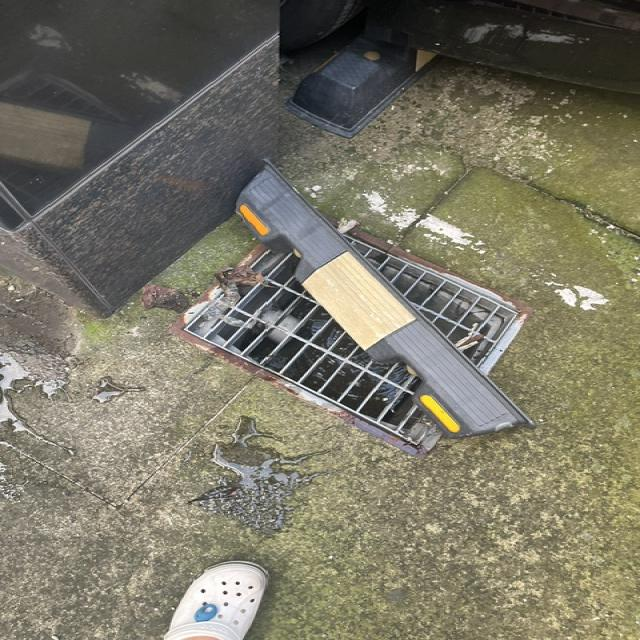drain_area: (186, 251, 427, 442), (343, 236, 520, 368)
drain_full: (185, 215, 520, 447)
